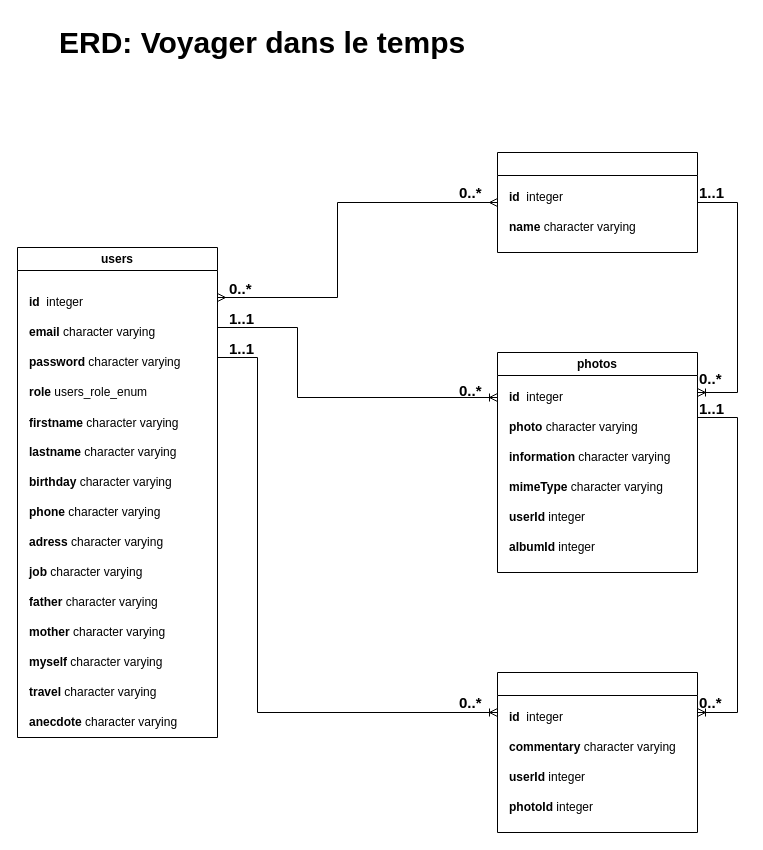
Some shapes in this 763 by 850 pixel diagram are drawn without their labels. Here are the shapes that lost their labels. From the top down, the box of each, then its label:
(496, 152, 698, 252): albums
(496, 672, 698, 832): commentaries
